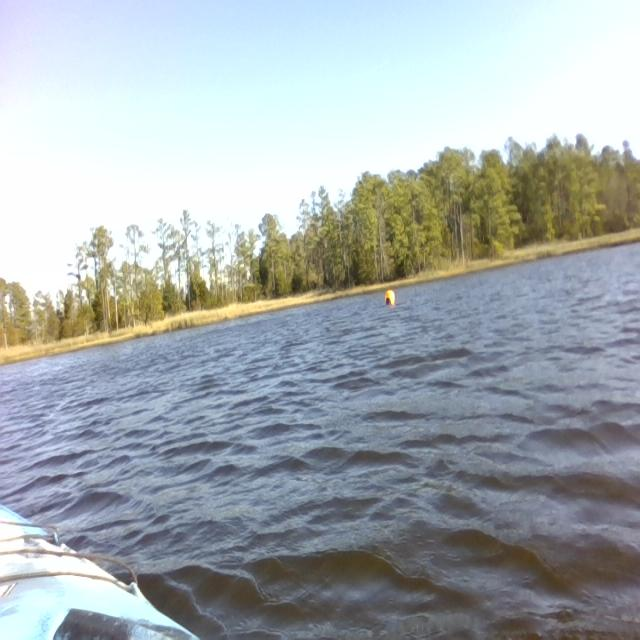Buoy: (381, 282, 398, 312)
